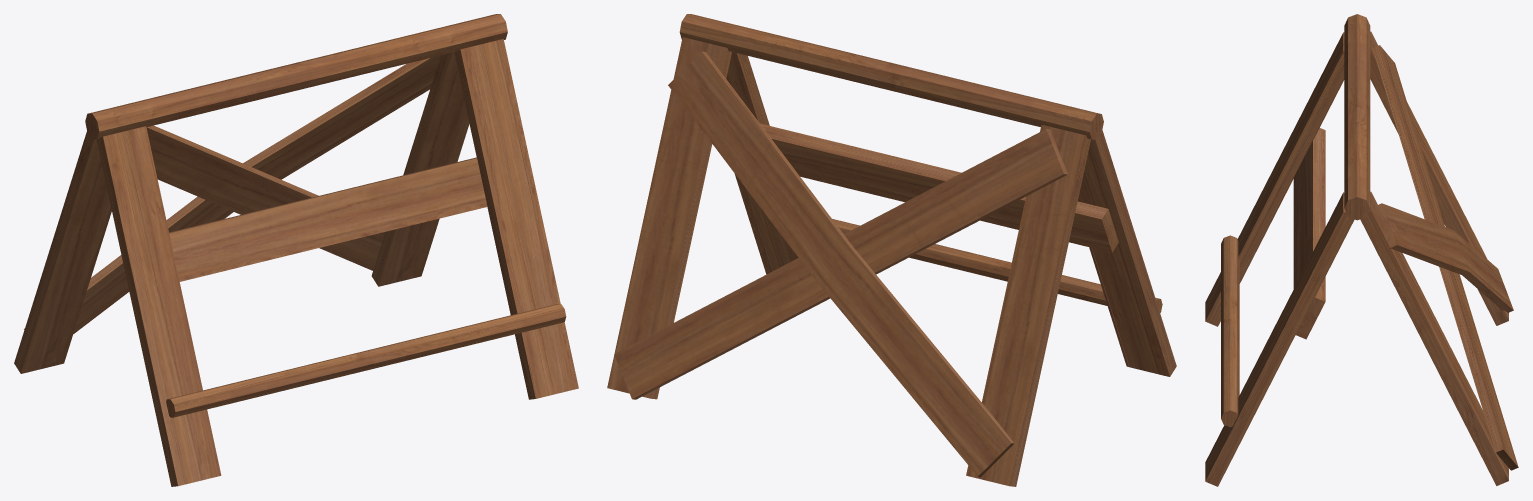
The model's file is rack_textured.gltf.
3 renders of one model, left to right at view 1: azimuth 30°, elevation 25°; view 2: azimuth 150°, elevation 25°; view 3: azimuth 270°, elevation 25°, orthographic. The views are drawn at different scales.
Visible parts, largest first — view 1: pCube16 rack polySurface1, pCube21 rack polySurface1, pCube23 rack polySurface1, pCylinder2 rack polySurface1, pCube20 rack polySurface1, pCube25 rack polySurface1, pCylinder3 rack polySurface1, pCube24 rack polySurface1, pCube22 rack polySurface1; view 2: pCube25 rack polySurface1, pCube24 rack polySurface1, pCube20 rack polySurface1, pCube22 rack polySurface1, pCylinder2 rack polySurface1, pCube23 rack polySurface1, pCube16 rack polySurface1, pCube21 rack polySurface1, pCylinder3 rack polySurface1; view 3: pCube24 rack polySurface1, pCube21 rack polySurface1, pCube22 rack polySurface1, pCube16 rack polySurface1, pCylinder2 rack polySurface1, pCube25 rack polySurface1, pCube23 rack polySurface1, pCylinder3 rack polySurface1, pCube20 rack polySurface1.
Part boxes in pixels (x1,y1,x2,y2): pCube16 rack polySurface1: [96, 126, 221, 486]; pCube21 rack polySurface1: [454, 39, 578, 399]; pCube23 rack polySurface1: [169, 157, 487, 281]; pCylinder2 rack polySurface1: [85, 14, 507, 139]; pCube20 rack polySurface1: [14, 131, 111, 373]; pCube25 rack polySurface1: [24, 55, 440, 333]; pCylinder3 rack polySurface1: [166, 304, 566, 417]; pCube24 rack polySurface1: [146, 125, 385, 270]; pCube22 rack polySurface1: [371, 52, 469, 286]; pCube25 rack polySurface1: [668, 51, 1014, 476]; pCube24 rack polySurface1: [614, 129, 1067, 399]; pCube20 rack polySurface1: [966, 125, 1090, 486]; pCube22 rack polySurface1: [607, 37, 731, 399]; pCylinder2 rack polySurface1: [679, 14, 1103, 139]; pCube23 rack polySurface1: [760, 123, 1118, 252]; pCube16 rack polySurface1: [1078, 130, 1176, 376]; pCube21 rack polySurface1: [726, 52, 798, 274]; pCylinder3 rack polySurface1: [832, 219, 1162, 312]; pCube24 rack polySurface1: [1372, 45, 1518, 470]; pCube21 rack polySurface1: [1205, 192, 1354, 486]; pCube22 rack polySurface1: [1360, 191, 1508, 485]; pCube16 rack polySurface1: [1205, 32, 1344, 326]; pCylinder2 rack polySurface1: [1344, 14, 1370, 220]; pCube25 rack polySurface1: [1374, 203, 1513, 312]; pCube23 rack polySurface1: [1293, 128, 1325, 339]; pCylinder3 rack polySurface1: [1221, 235, 1239, 427]; pCube20 rack polySurface1: [1370, 31, 1508, 325].
Bounding box in the file's own units: 1.42 × 1.06 × 1.03.
Materials: 1 (1 with a texture image).
